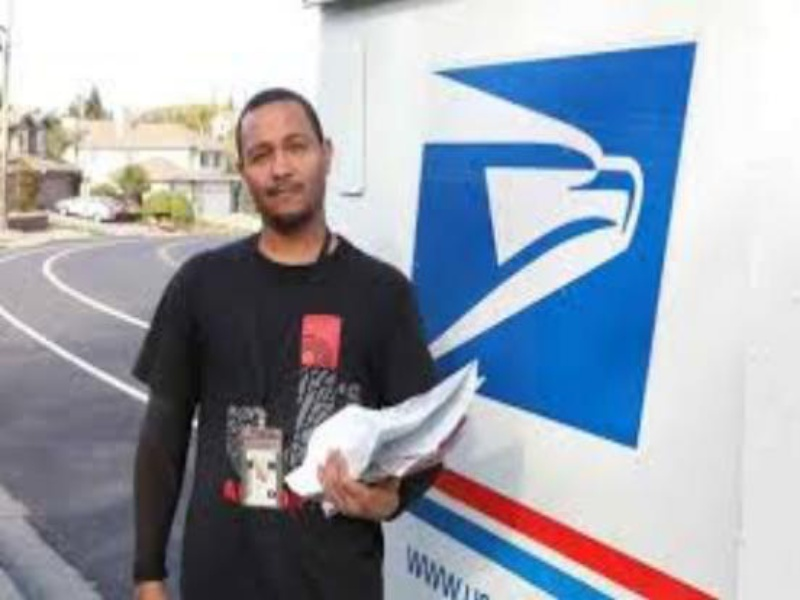TsisyArotava: (210, 79, 351, 233)
